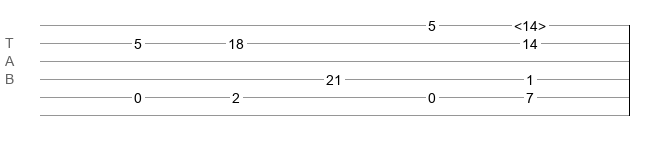0: (134, 90, 142, 100), (428, 90, 436, 100)
1: (526, 72, 534, 82)
14: (522, 36, 538, 46)
18: (228, 36, 244, 46)
2: (232, 90, 240, 100)
21: (326, 72, 342, 82)
5: (134, 36, 142, 46), (428, 18, 436, 28)
7: (526, 90, 534, 100)
harmonic: (514, 18, 546, 28)
